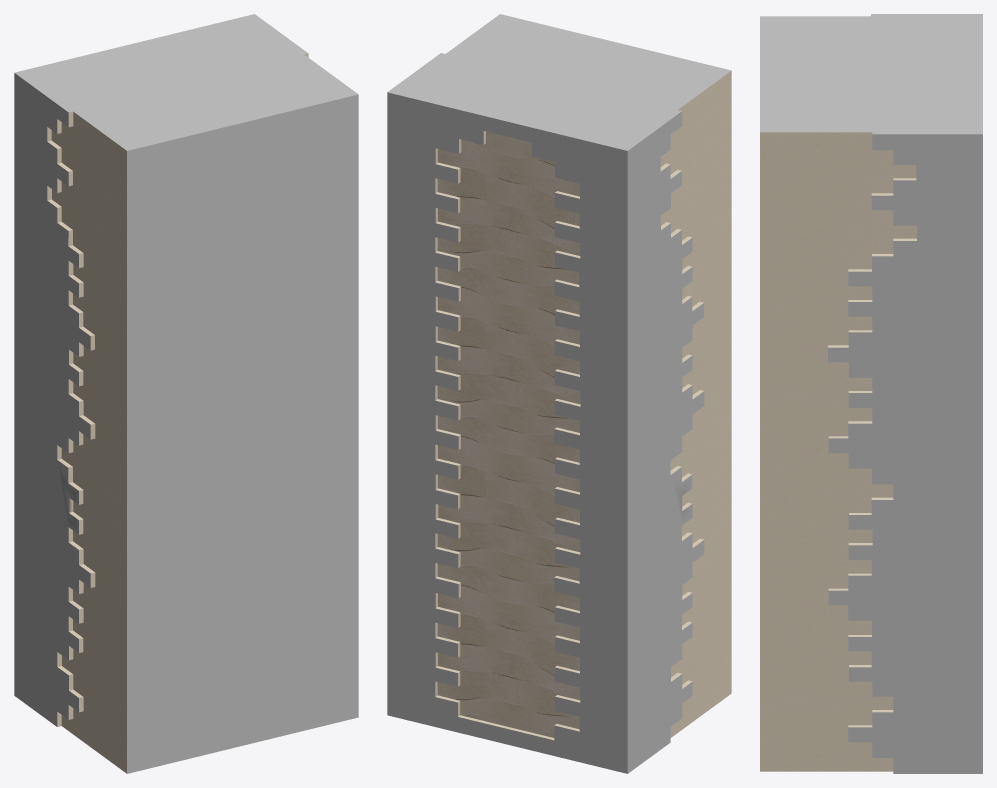
The model's file is InteriorColumn.FBX.
3 views of the same model, side by side, from view 1: azimuth 30°, elevation 25°; view 2: azimuth 150°, elevation 25°; view 3: azimuth 270°, elevation 25° (orthographic). The views are drawn at different scales.
Visible parts, largest first — view 1: InteriorColumn; view 2: InteriorColumn; view 3: InteriorColumn.
Part boxes in pixels (box(x1,y1,x2,y2)): InteriorColumn: box(14, 14, 358, 773); InteriorColumn: box(387, 14, 731, 773); InteriorColumn: box(760, 14, 982, 773).
Bounding box in the file's own units: 60.34 × 149 × 47.14.
